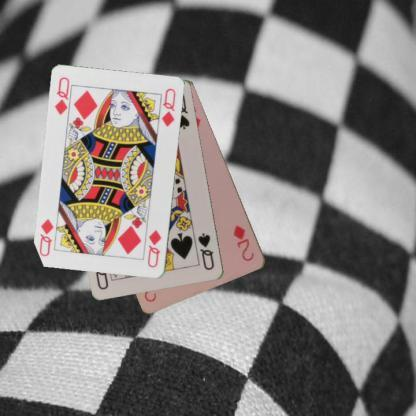2d: (231, 222, 256, 263)
Qd: (53, 74, 74, 120), (145, 227, 163, 269)
Qs: (196, 230, 216, 272)
